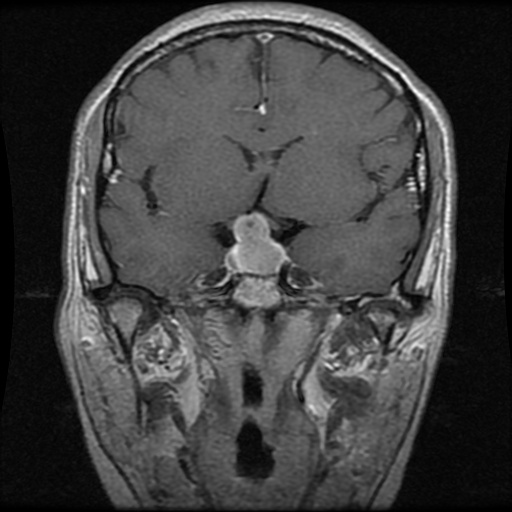pituitary: (225, 211, 286, 276)
